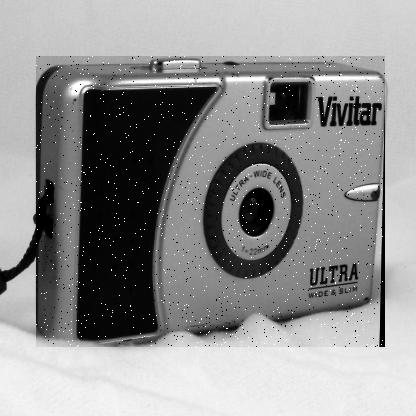Camera: (37, 57, 387, 349)
